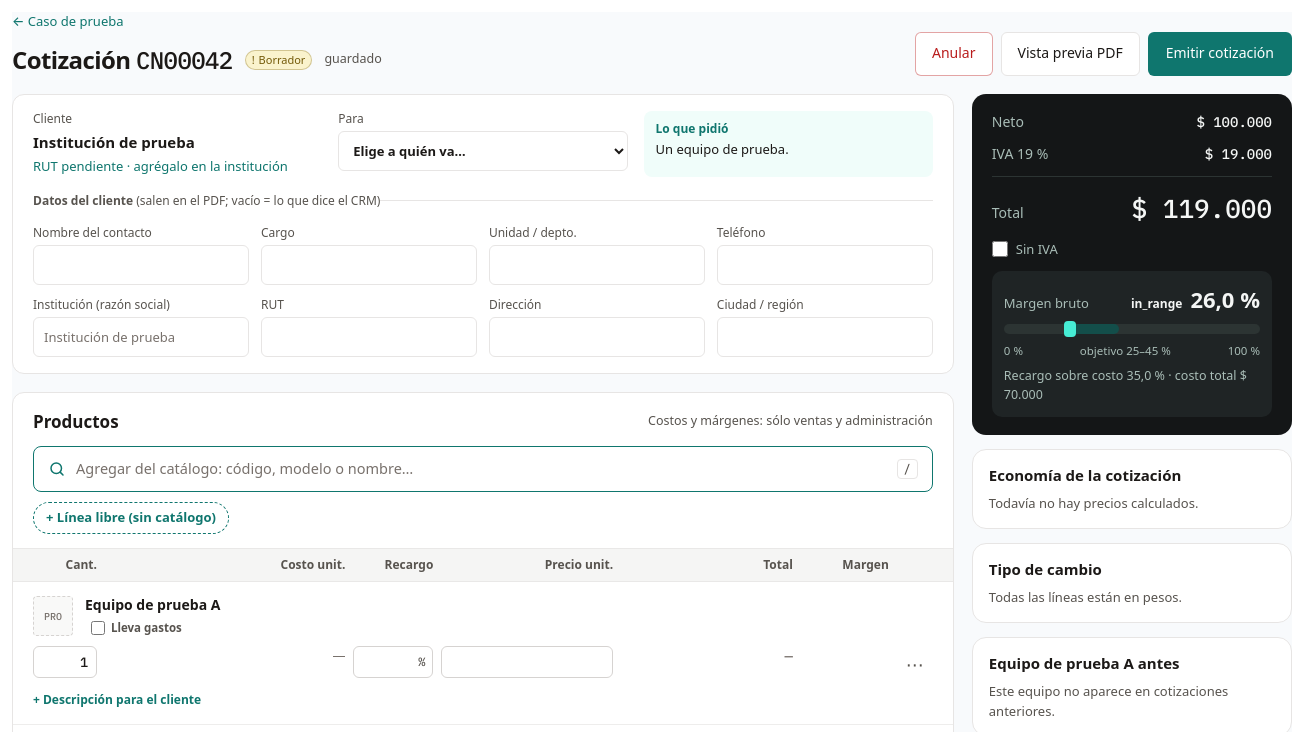
Test: Cotizador page — the draft editor › saves an edit by itself and says so
Replace the text in the field named "Cantidad de la línea 1" with "3" at (65, 662), box [33,646,97,678]
Wait 1250 ms
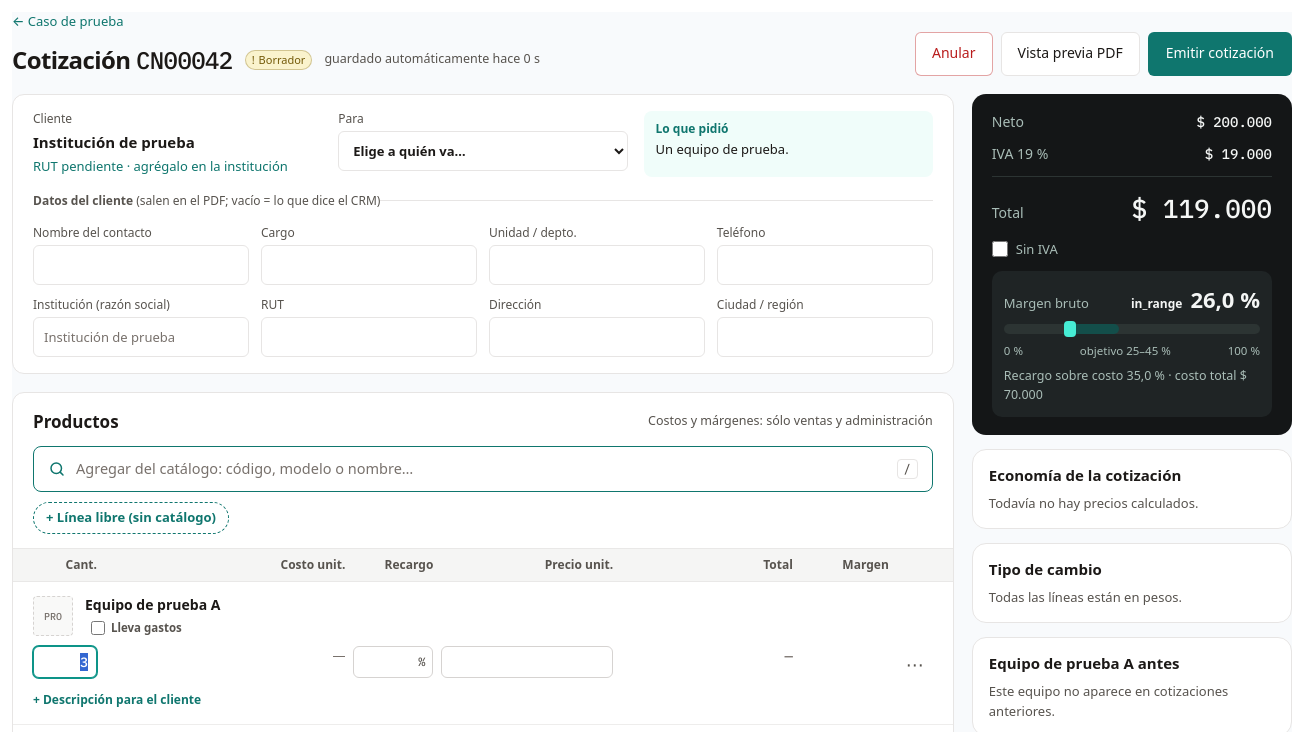
Check: the text "guardado automáticamente hace 0 s" is shown, box [324,50,540,69]
